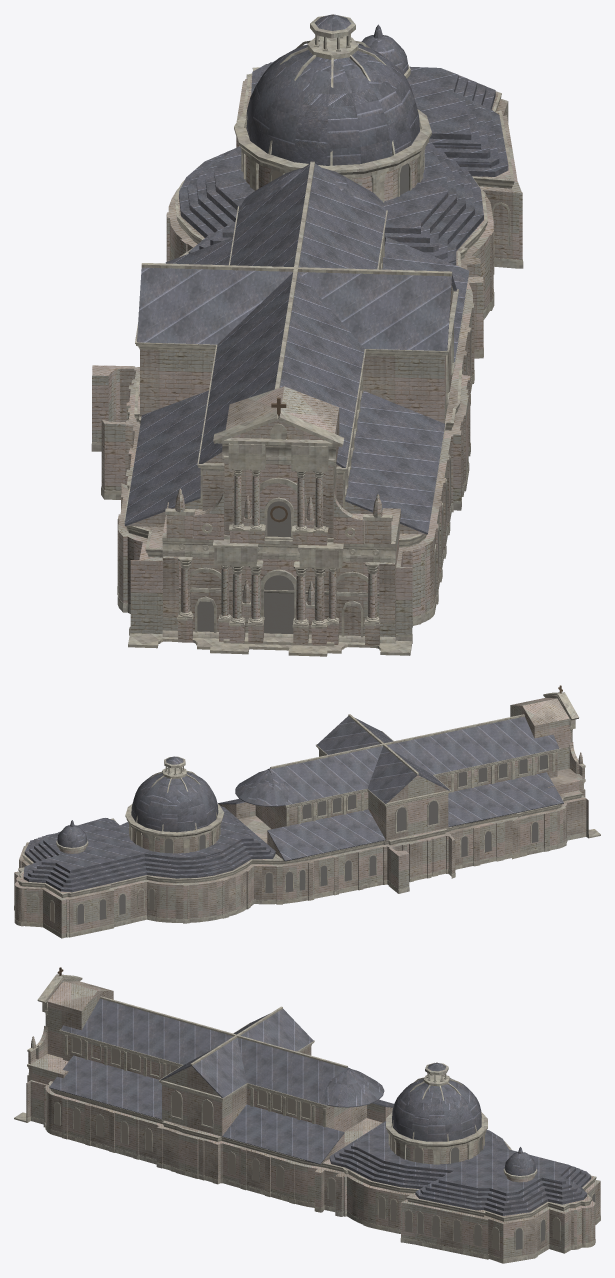
File: saint-roch.glb
3 renders of one model, top to bottom at view 1: azimuth 30°, elevation 25°; view 2: azimuth 150°, elevation 25°; view 3: azimuth 270°, elevation 25°, orthographic. The views are drawn at different scales.
Visible parts, largest first — view 1: roof, stone, trim, window; view 2: roof, stone, trim, window; view 3: roof, stone, trim, window.
Boxes of the visible parts, x1,y1,x2,y2 form: roof: [124, 14, 508, 534]; stone: [92, 68, 522, 647]; trim: [91, 14, 523, 656]; window: [197, 153, 470, 633]; roof: [23, 716, 563, 892]; stone: [14, 695, 588, 933]; trim: [14, 692, 600, 938]; window: [50, 754, 547, 924]; roof: [49, 998, 591, 1215]; stone: [26, 978, 600, 1258]; trim: [14, 974, 600, 1263]; window: [55, 1037, 595, 1250].
Size of the model in its own units: 90.32 by 30 by 114.
5 materials, 5 textured.
